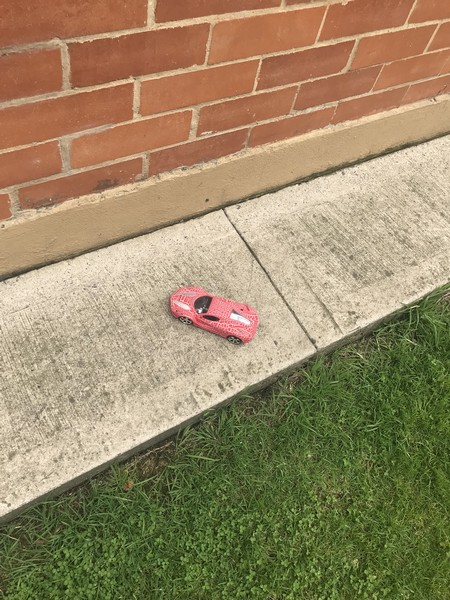RC: (166, 284, 259, 345)
